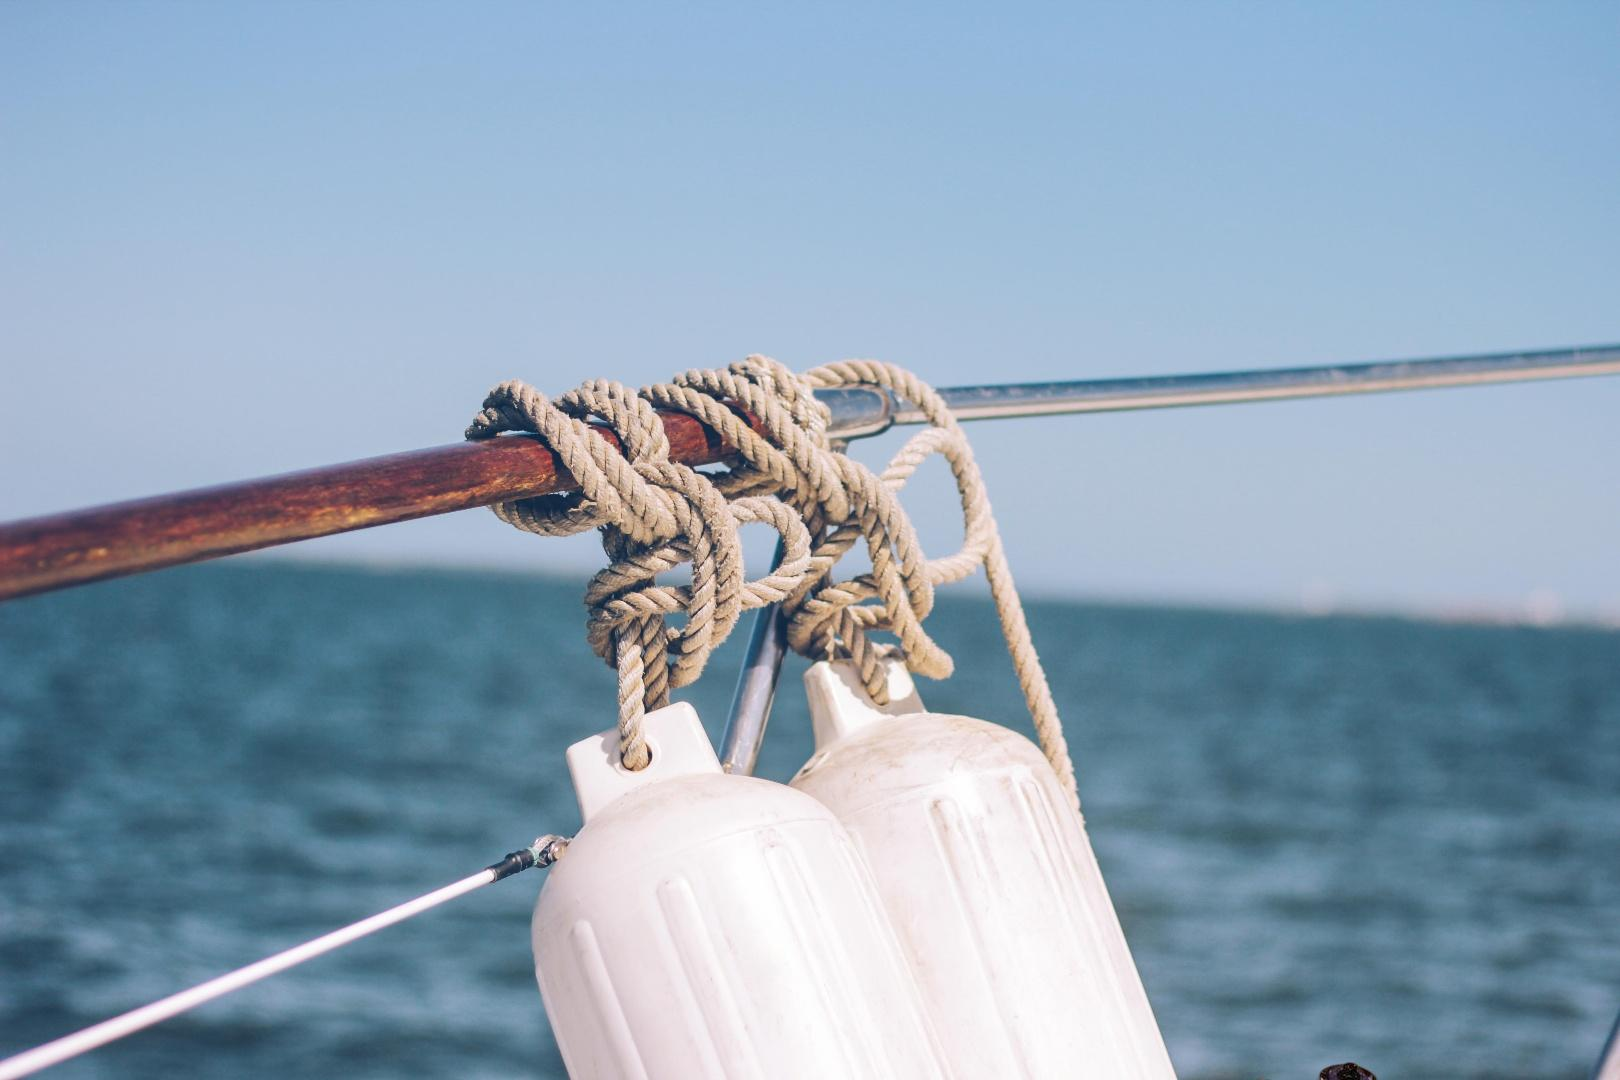biological: (1064, 1040, 1383, 1080)
